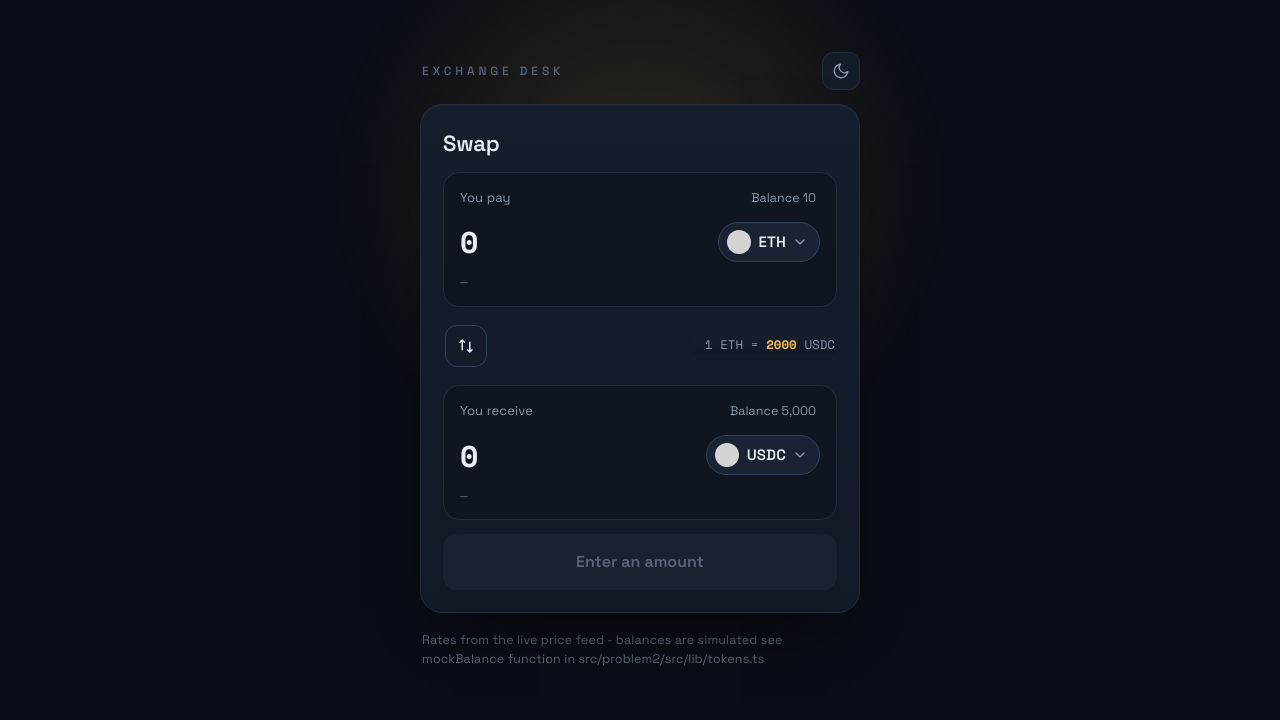
it: App › toggles the theme and persists the choice
This screenshot has width=1280, height=720.
Check: the heading "Swap" is shown, box top-left (443, 126), bottom-right (500, 160)
Click the button named "Switch to light mode" at (841, 70), box top-left (822, 52), bottom-right (860, 90)
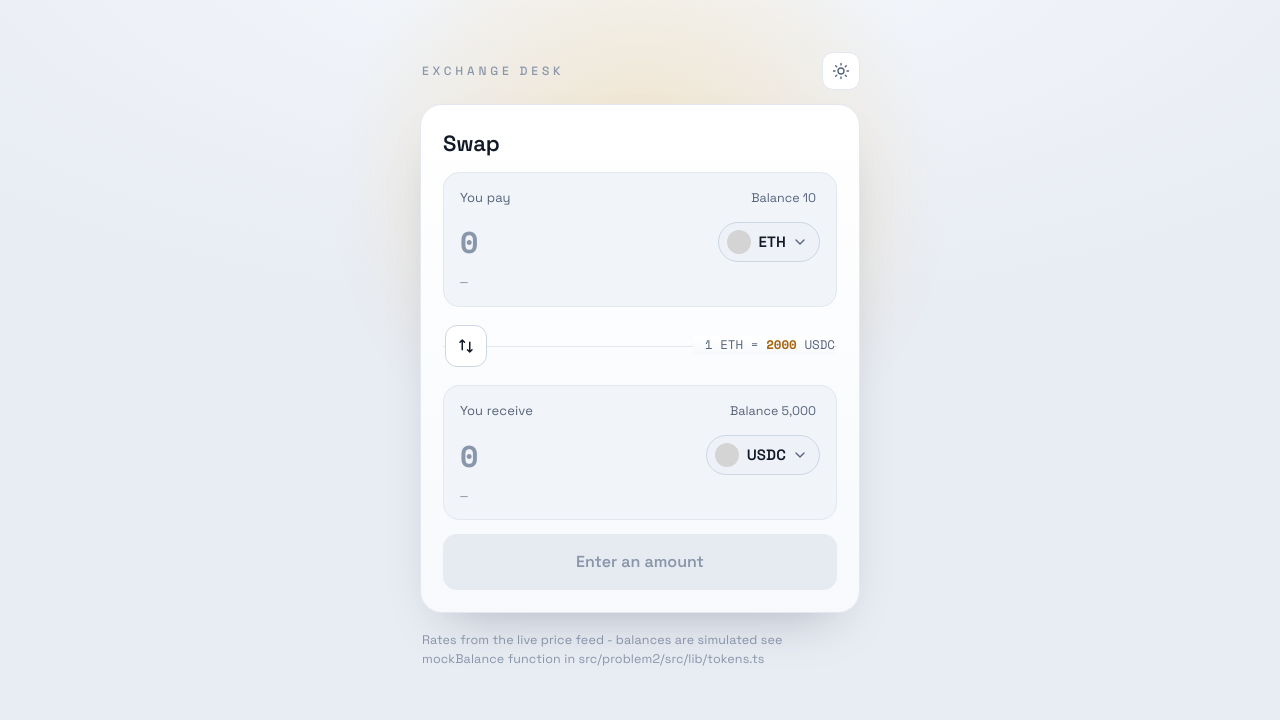
Check: the button named "Switch to dark mode" is shown, box top-left (822, 52), bottom-right (860, 90)
